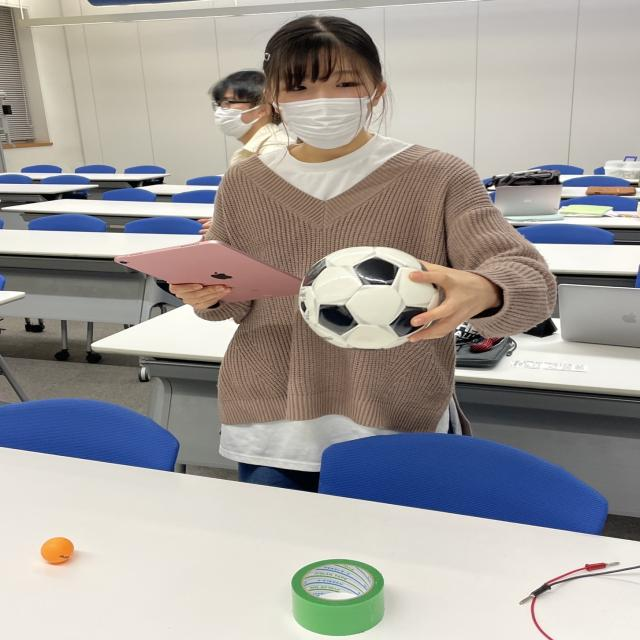ball: (303, 246, 430, 352)
